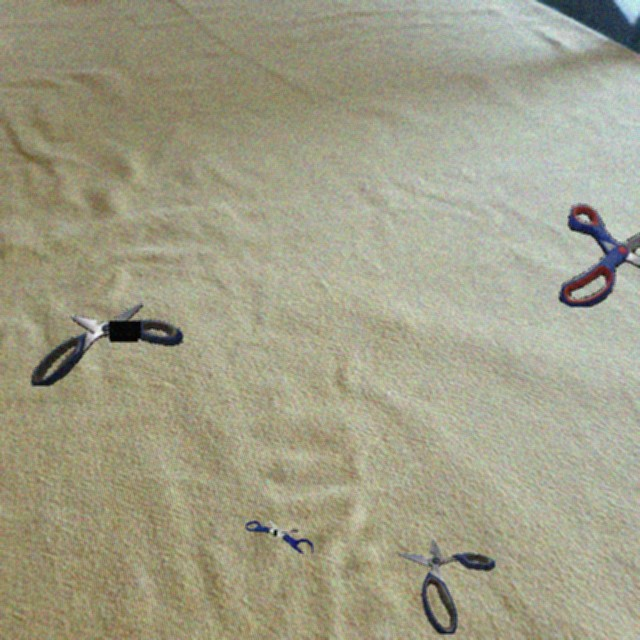scissors: (31, 302, 183, 386), (396, 538, 495, 634), (559, 203, 640, 307), (246, 520, 313, 553)
